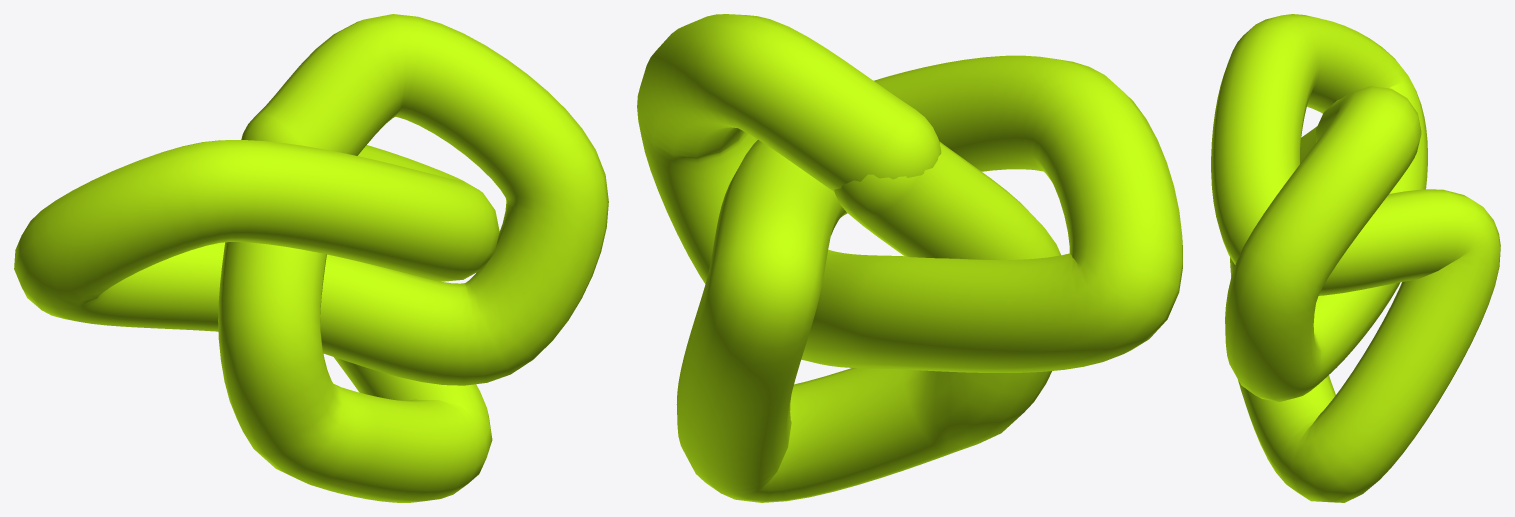
Rendered from trefoil_mirror.glb.
The picture shows the model from 3 angles, left to right: view 1: azimuth 30°, elevation 25°; view 2: azimuth 150°, elevation 25°; view 3: azimuth 270°, elevation 25°; orthographic projection. The views are drawn at different scales.
Visible parts, largest first — view 1: mesh_id28; view 2: mesh_id28; view 3: mesh_id28.
Part boxes in pixels (bbox=[...]): mesh_id28: bbox=[14, 14, 608, 502]; mesh_id28: bbox=[637, 14, 1182, 502]; mesh_id28: bbox=[1211, 14, 1500, 502].
Size of the model in its own units: 0.3536 by 0.2912 by 0.1944.
Materials: 2 (2 with a texture image).
